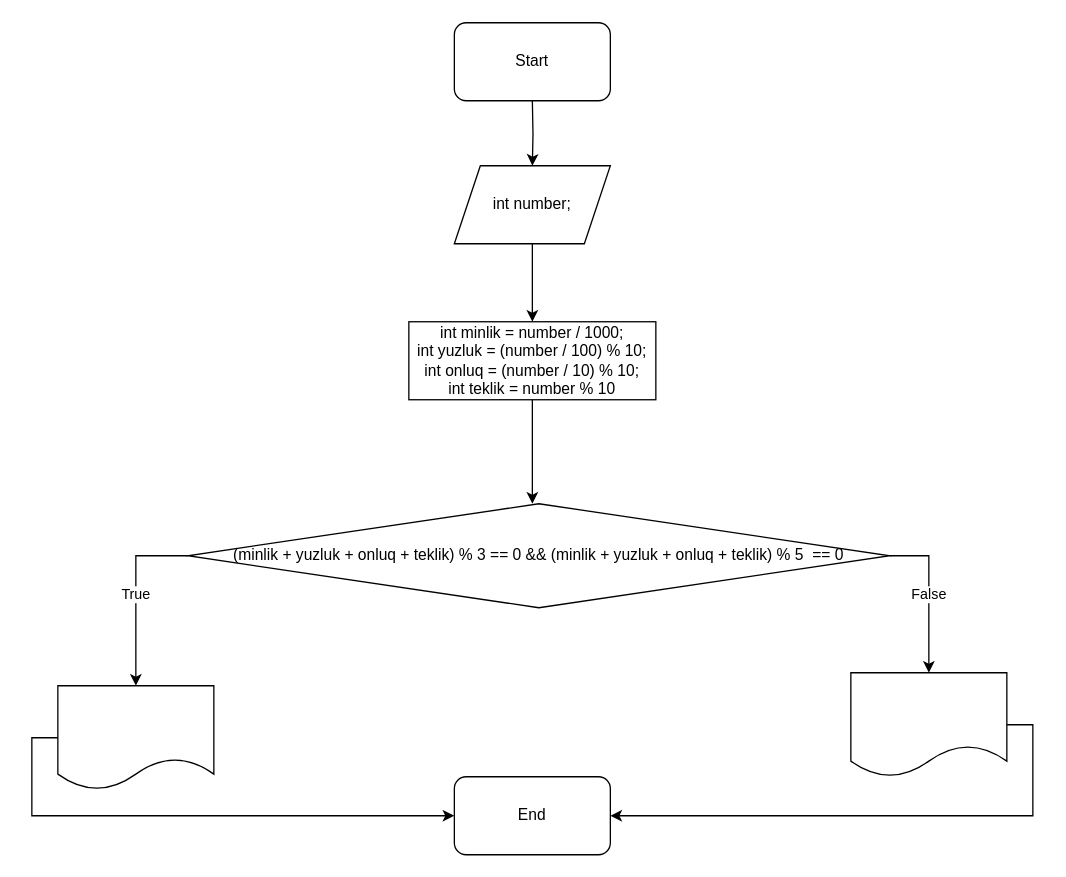
The diagram is 1066 pixels wide and 877 high, and some of its shapes have lost their labels. The shapes that lost their labels are listed below. From the top down, each one's box as (x1, y1, x2, y2) in pixels, then its label:
(57, 684, 214, 790): Dogrudur, bolunurler
(850, 671, 1007, 777): Bolunmurler
